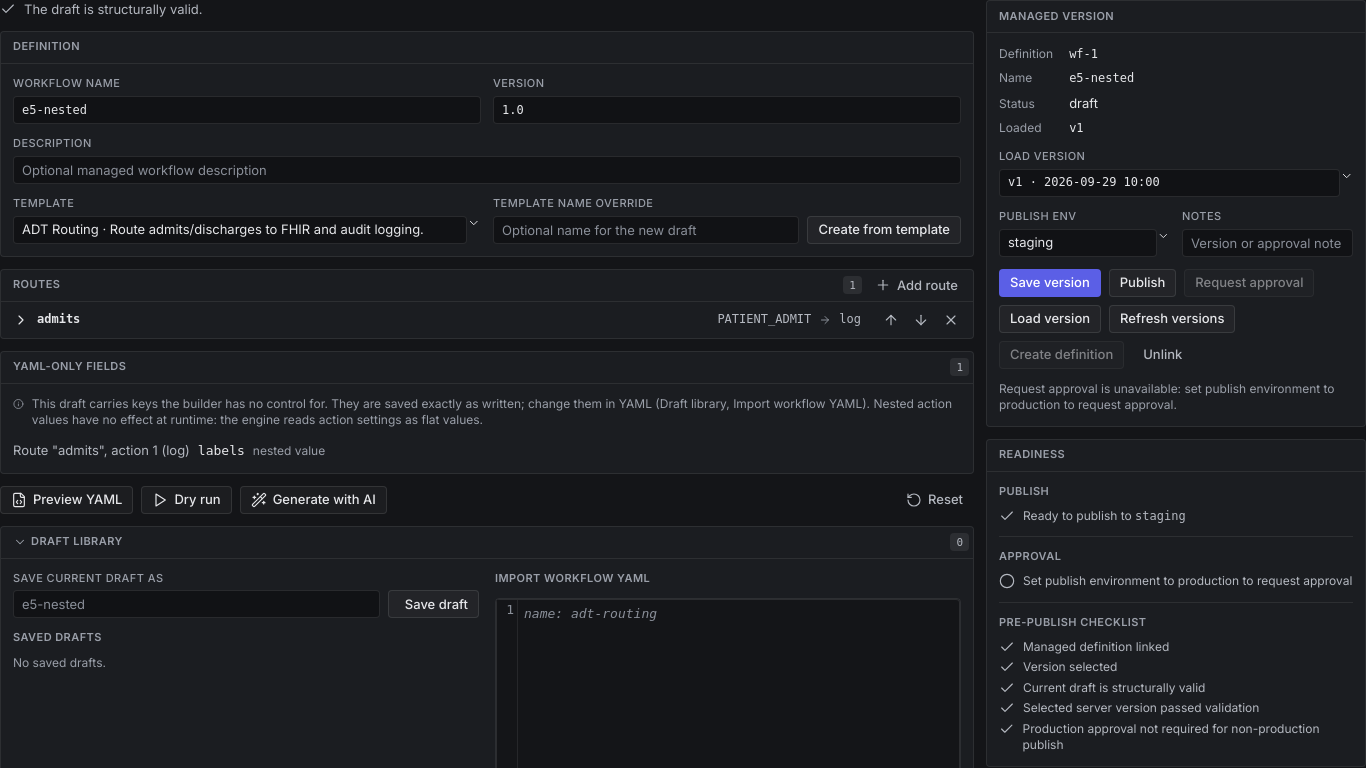
Test case: WorkflowBuilder › asks in a dialog, not window.confirm, before publishing
The width and height of the screenshot is (1366, 768).
Expected: the element with test id "workflow-yaml-only" is shown, [0,351,974,474]
Click the button with test id "workflow-publish-version".
click(1143, 283)  # box [1109,269,1176,297]
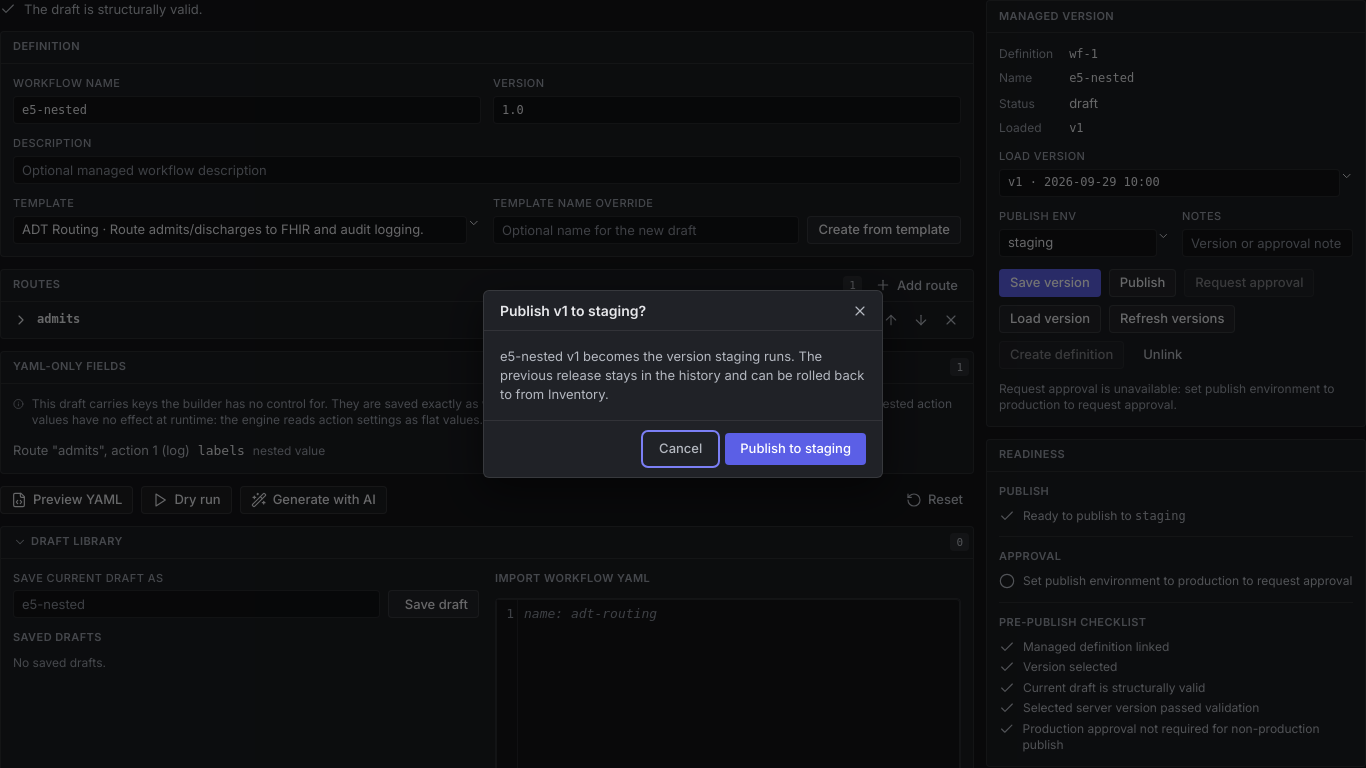
Click the button "Publish to staging".
click(796, 449)  # box [725,433,866,465]
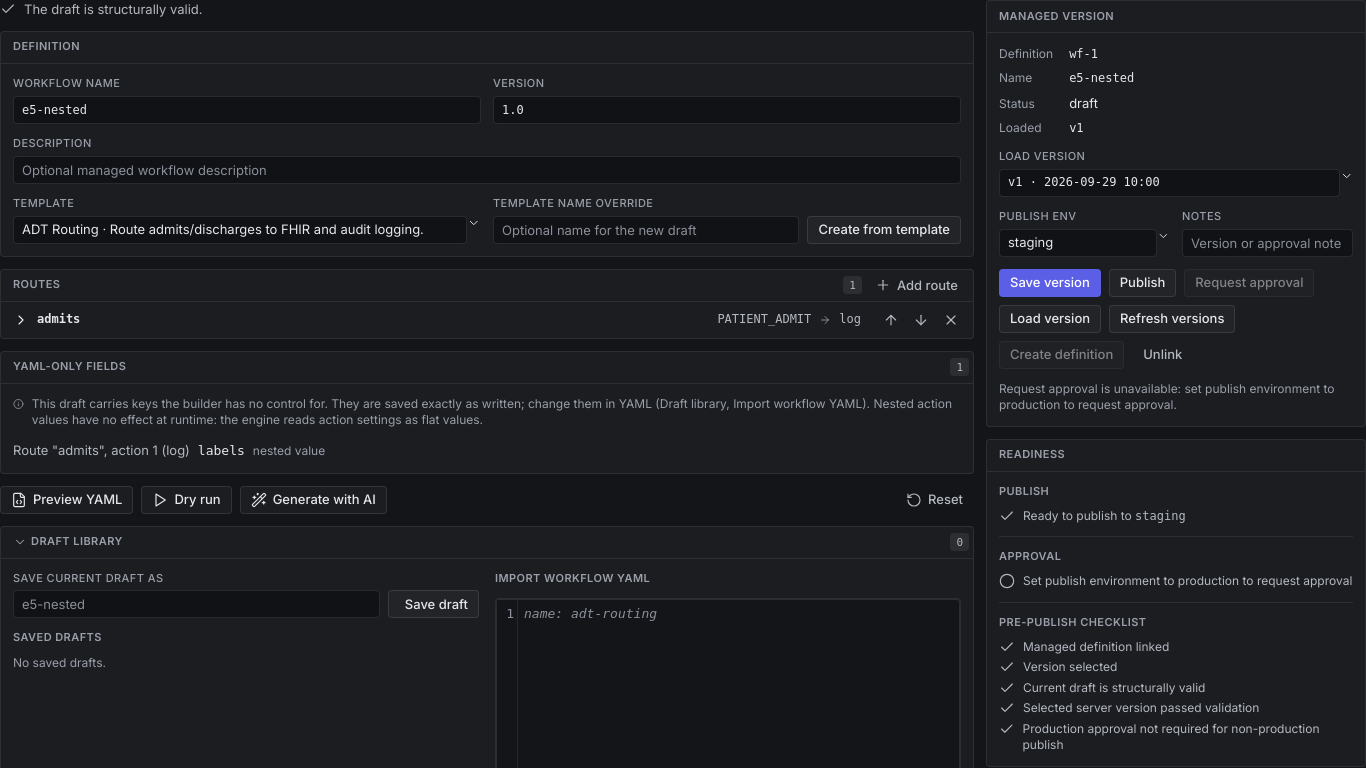
Result: the dialog is gone
